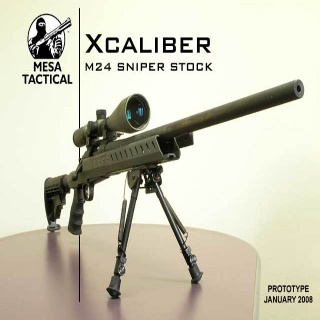rifle: (41, 77, 305, 296)
